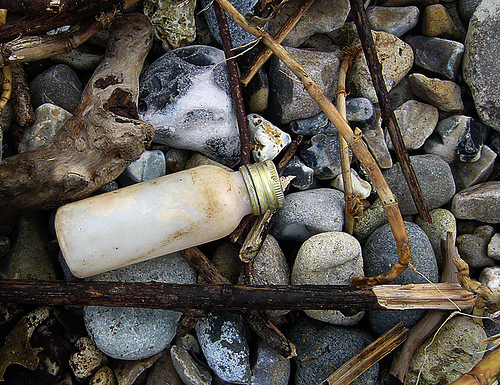litter: (53, 159, 284, 280)
